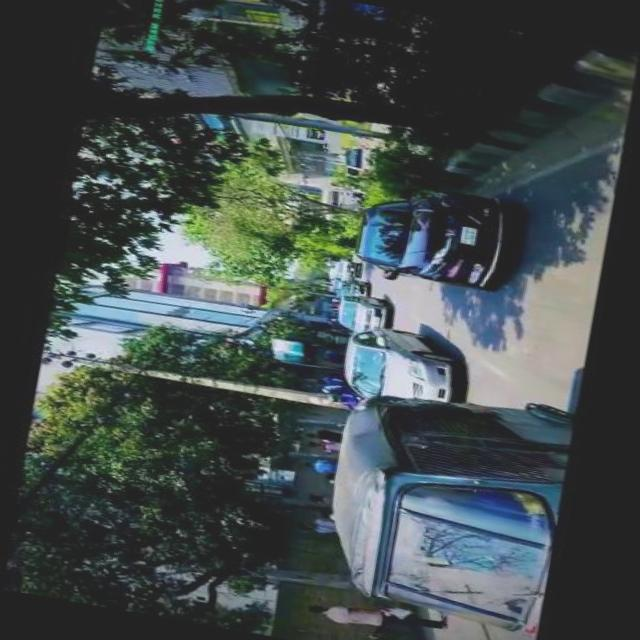car: (345, 173, 507, 291), (336, 318, 455, 408), (328, 288, 386, 334), (338, 140, 375, 176), (334, 274, 368, 294)
motorcycle: (313, 370, 572, 632)
